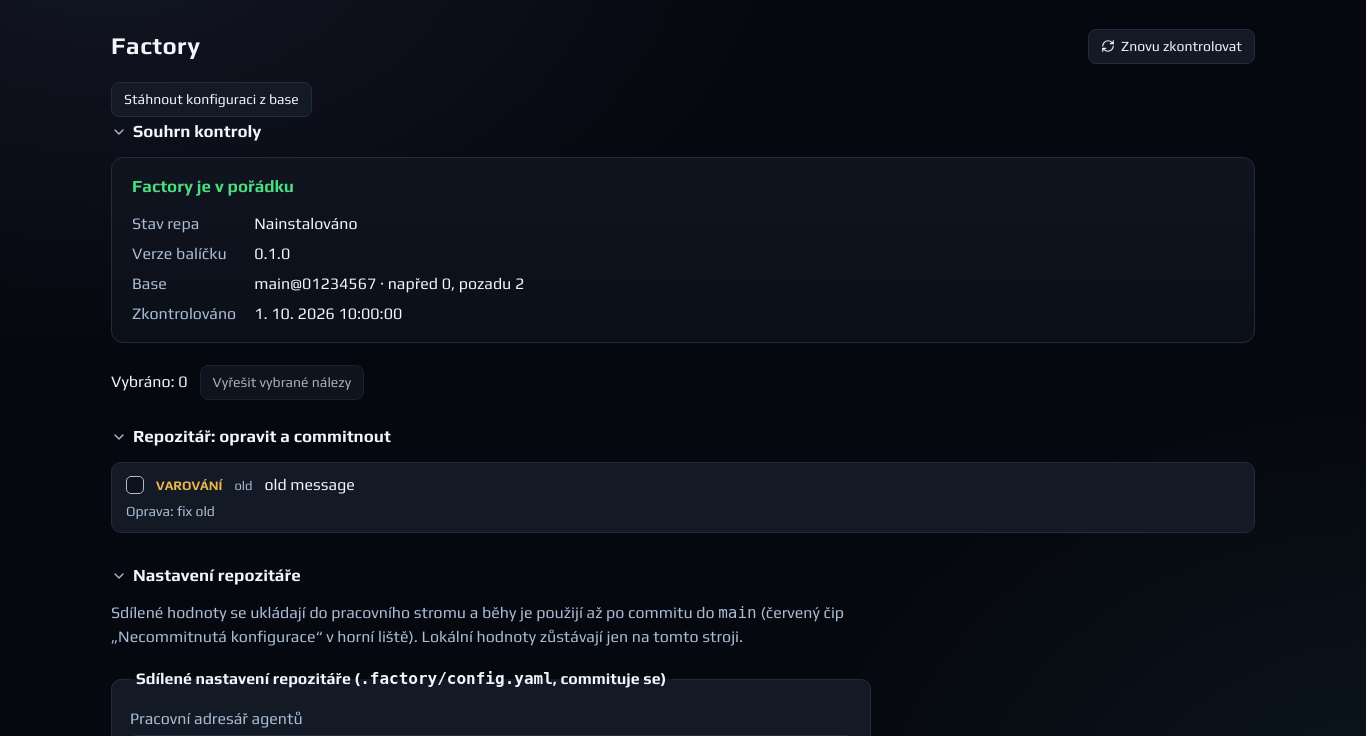
FactoryView › clears the selection after a fresh check and keeps deselected findings out of the repair
This screenshot has width=1366, height=736.
Click the checkbox with test id "finding-select" at (135, 485), box [126, 476, 144, 494]
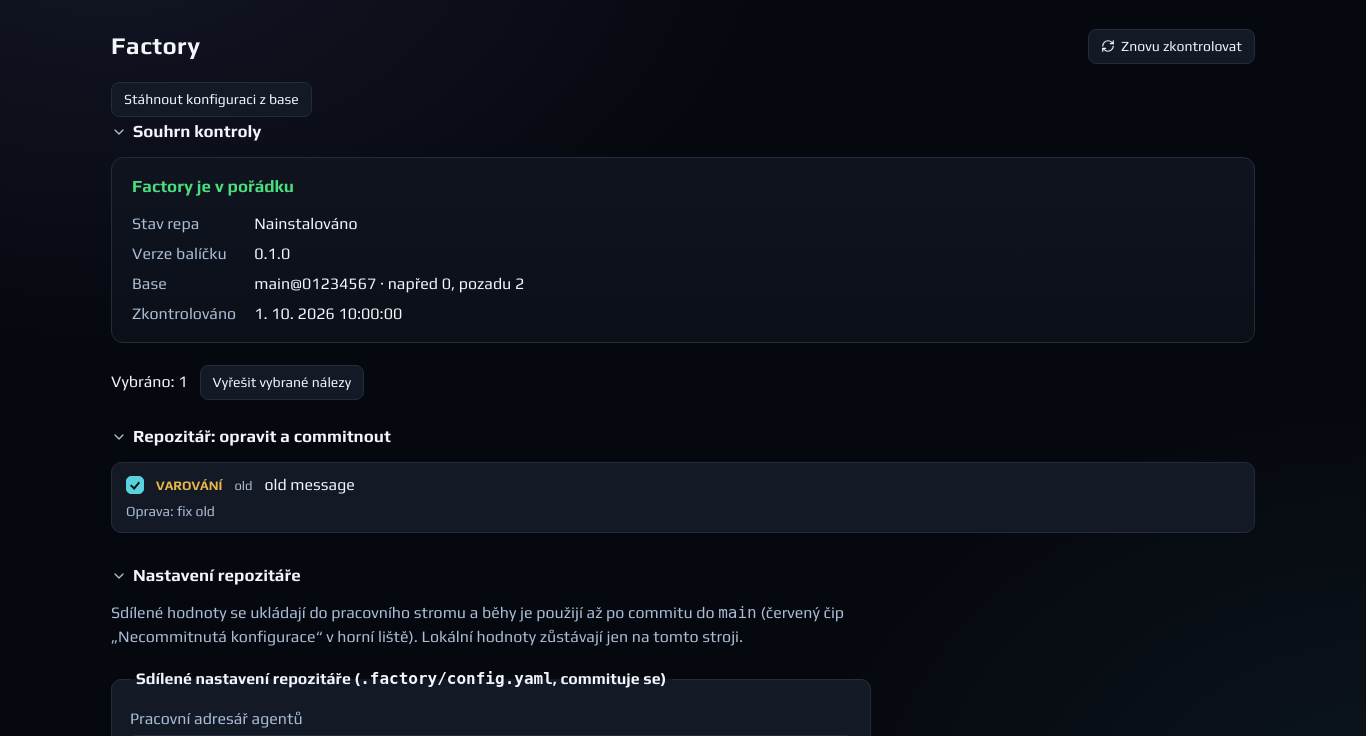
Click the checkbox with test id "finding-select" at (135, 485), box [126, 476, 144, 494]
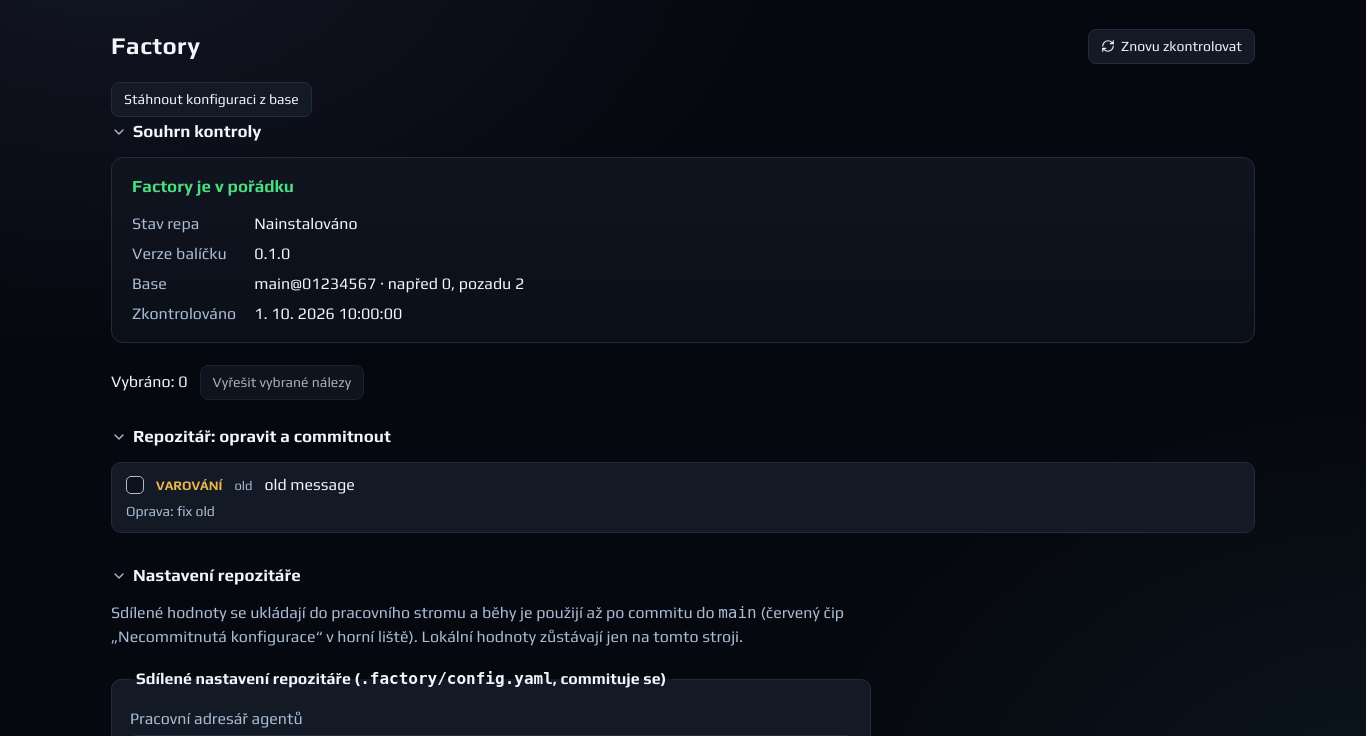
Expected: the button with test id "factory-repair-open" is disabled, [200, 365, 364, 400]
Click the checkbox with test id "finding-select" at (135, 485), box [126, 476, 144, 494]
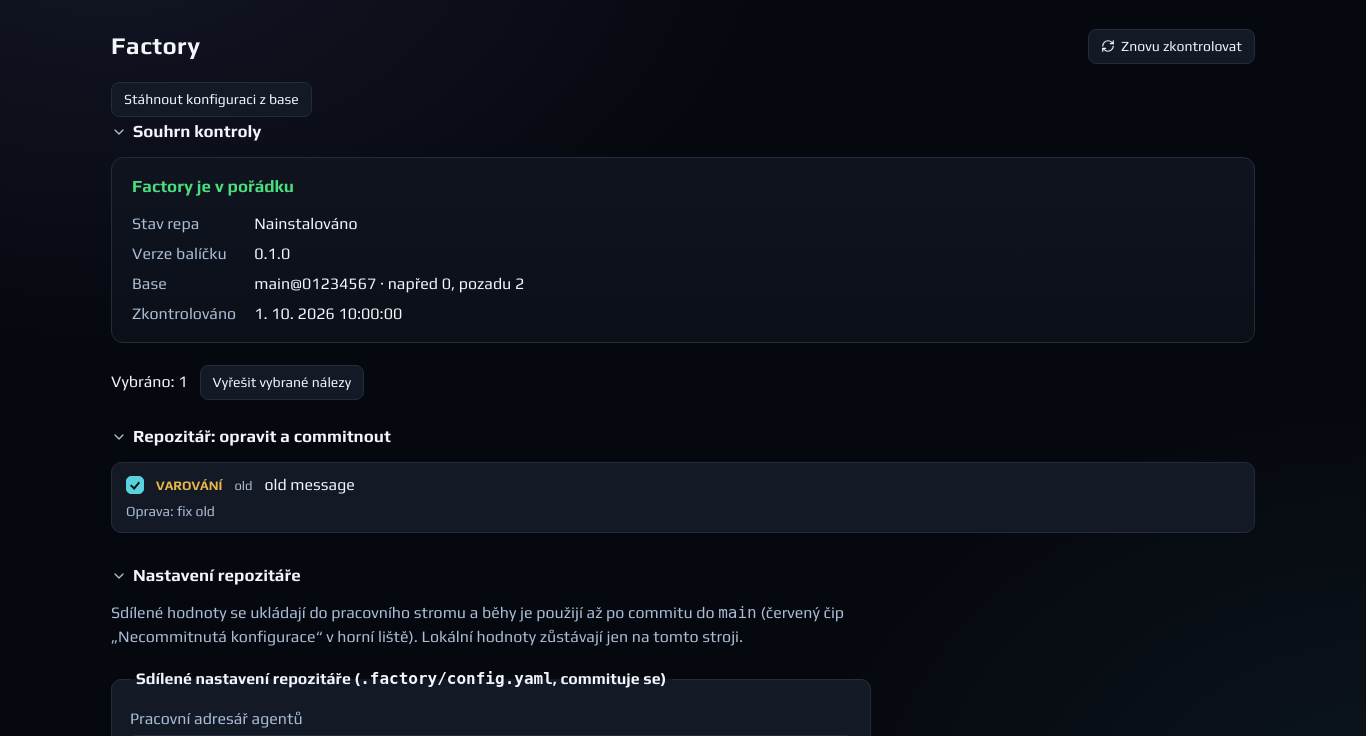
Click the button with test id "factory-recheck" at (1172, 46), box [1088, 28, 1255, 64]
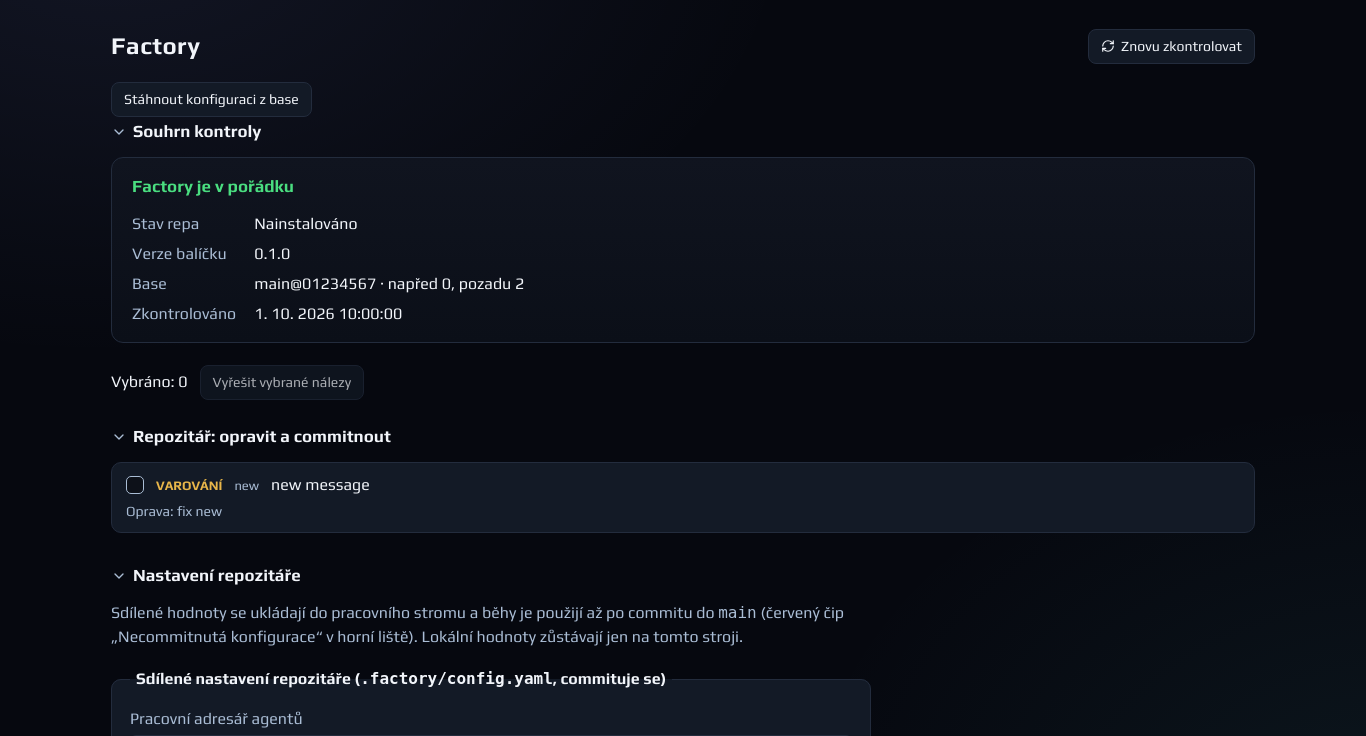
Expected: the text with test id "factory-selected-count" reads "Vybráno: 0", [111, 372, 188, 391]
Expected: the checkbox with test id "finding-select" is not checked, [126, 476, 144, 494]
